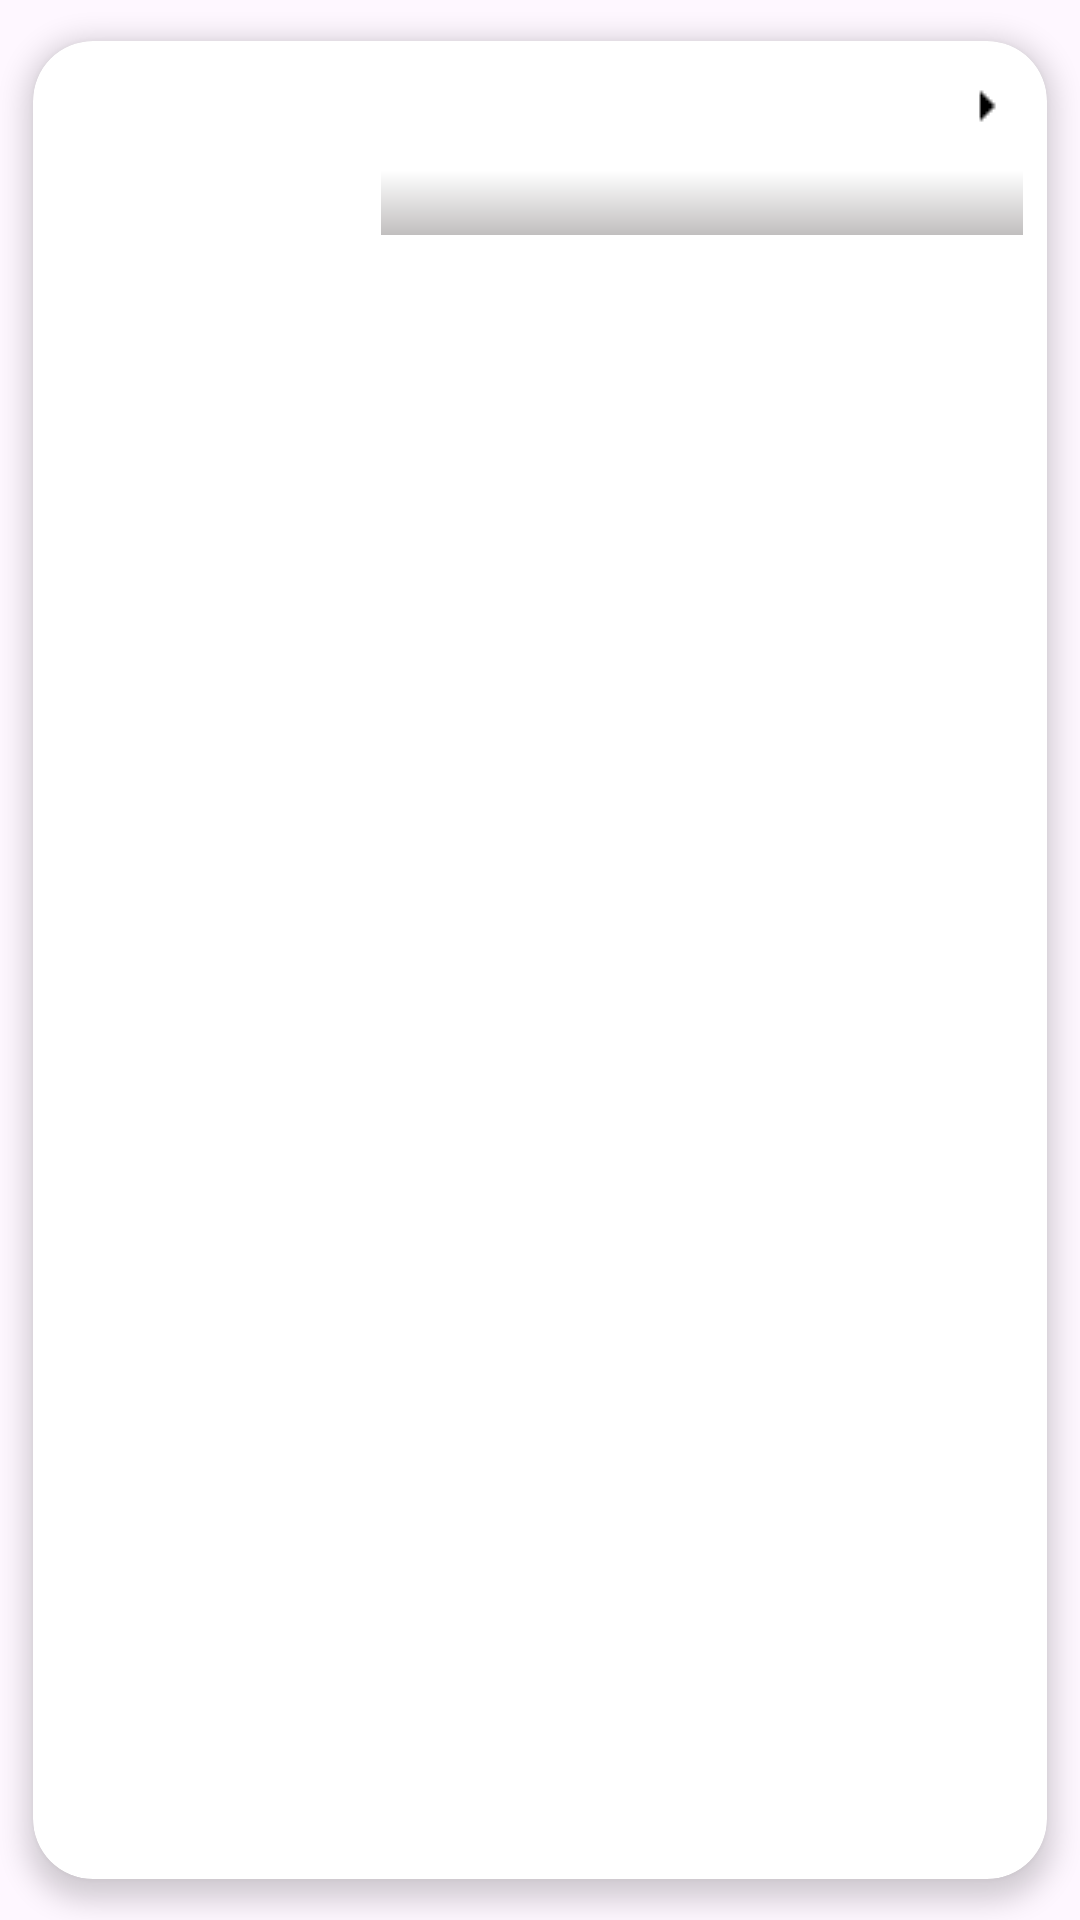

Icons on this 1080x1920 Android screen, each with its box as (x1, y1, x2, y2):
arrow right: (979, 90, 996, 122)
